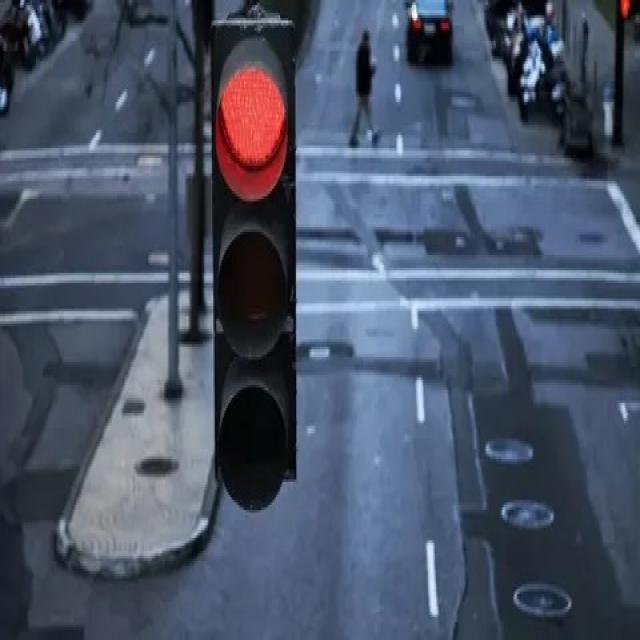kirmizi: (211, 26, 297, 513)
